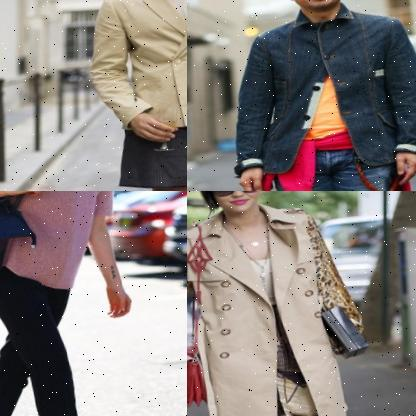jacket: (187, 192, 375, 416), (220, 0, 416, 182), (79, 0, 187, 135)
pants: (205, 302, 348, 416), (0, 260, 90, 416)
shirt: (0, 191, 125, 298)
short: (266, 139, 399, 191), (109, 107, 187, 191)
